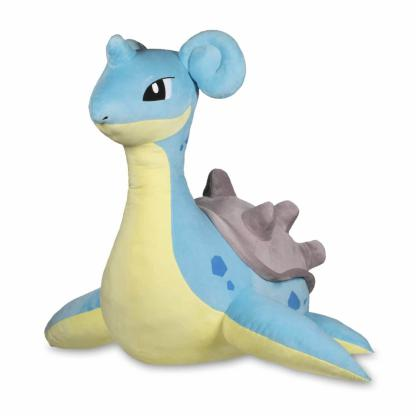Lapras: (45, 25, 392, 385)
